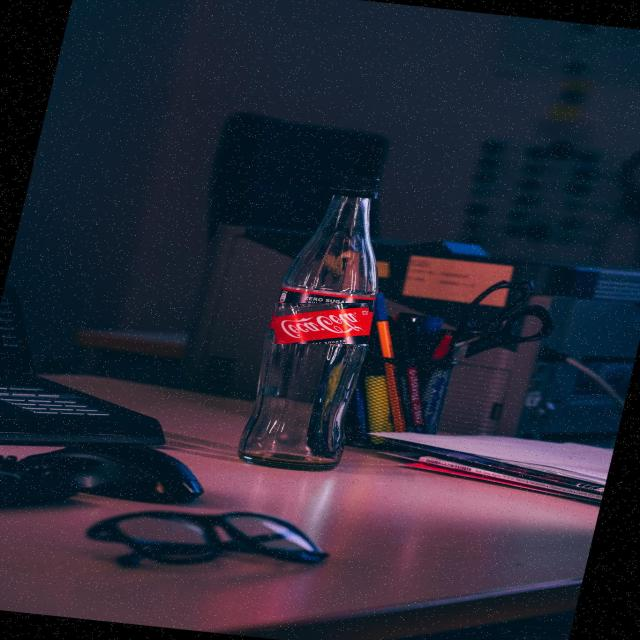coca-cola: (275, 303, 369, 344)
